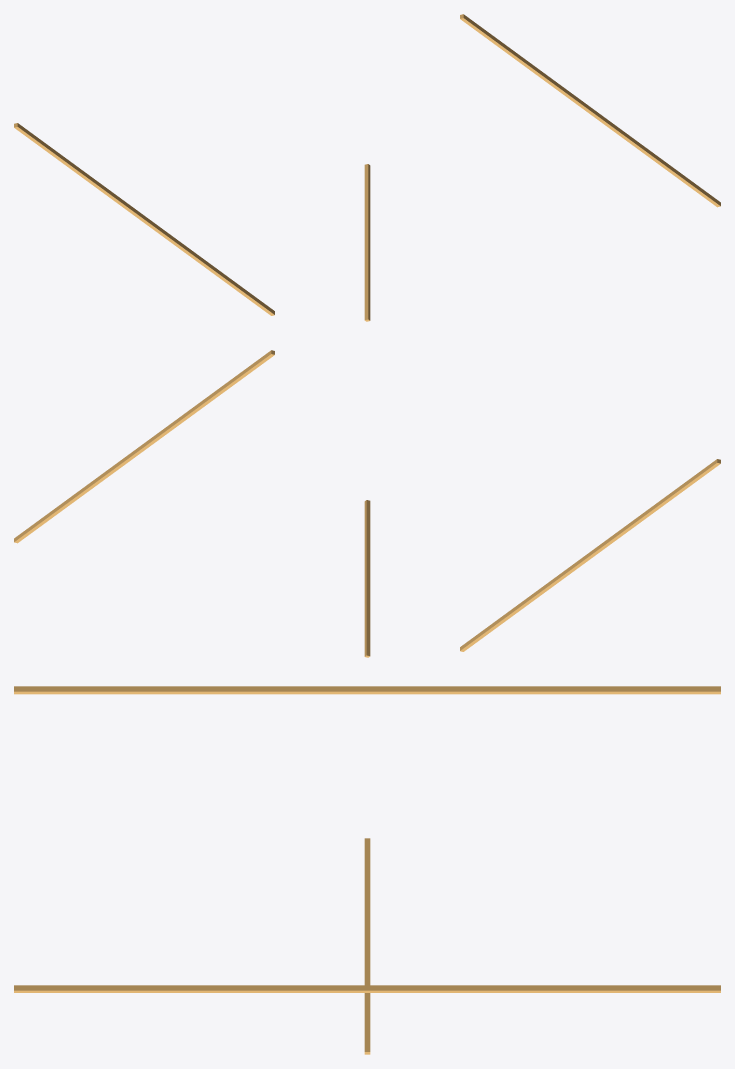
File: light_path_calibration.glb
3 views of the same model, one above another, from view 1: azimuth 30°, elevation 25°; view 2: azimuth 150°, elevation 25°; view 3: azimuth 270°, elevation 25° (orthographic). The views are drawn at different scales.
Visible parts, largest first — view 1: beam_cal_to_highspec, beam_cal_to_deepspec, beam_thar_to_injection; view 2: beam_cal_to_highspec, beam_cal_to_deepspec, beam_thar_to_injection; view 3: beam_cal_to_deepspec, beam_cal_to_highspec, beam_thar_to_injection.
Part boxes in pixels (x1,y1,x2,y2): beam_cal_to_highspec: [460, 14, 720, 207]; beam_cal_to_deepspec: [14, 123, 274, 315]; beam_thar_to_injection: [364, 164, 370, 321]; beam_cal_to_highspec: [14, 350, 274, 543]; beam_cal_to_deepspec: [460, 459, 720, 651]; beam_thar_to_injection: [364, 500, 370, 657]; beam_cal_to_deepspec: [14, 686, 720, 694]; beam_cal_to_highspec: [14, 985, 720, 992]; beam_thar_to_injection: [364, 838, 370, 1054].
Bounding box in the file's own units: 0.605 × 0.2025 × 0.6.
